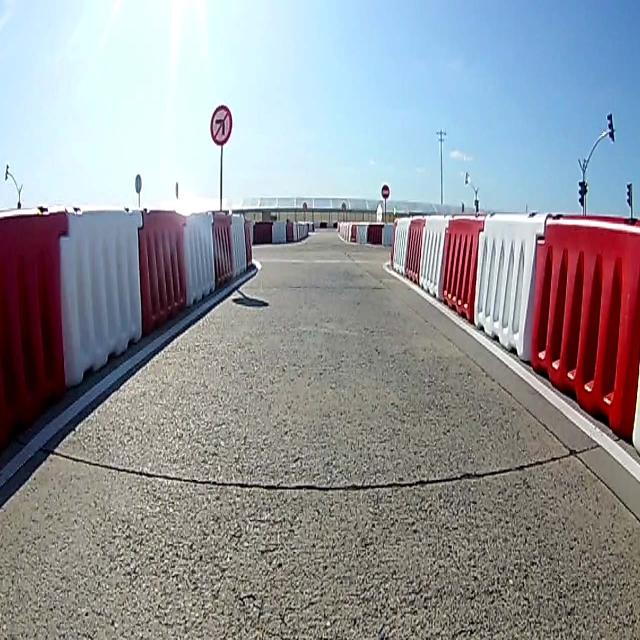girisyok: (381, 183, 389, 201)
soladonulmez: (210, 105, 233, 145)
